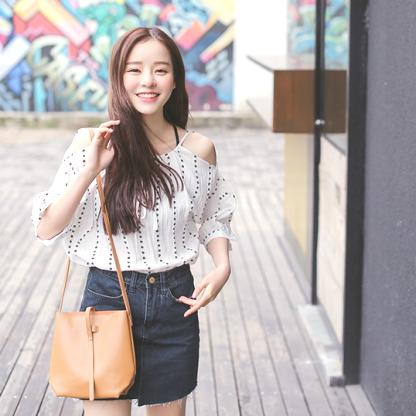jacket: (29, 122, 231, 274), (72, 265, 204, 406)
